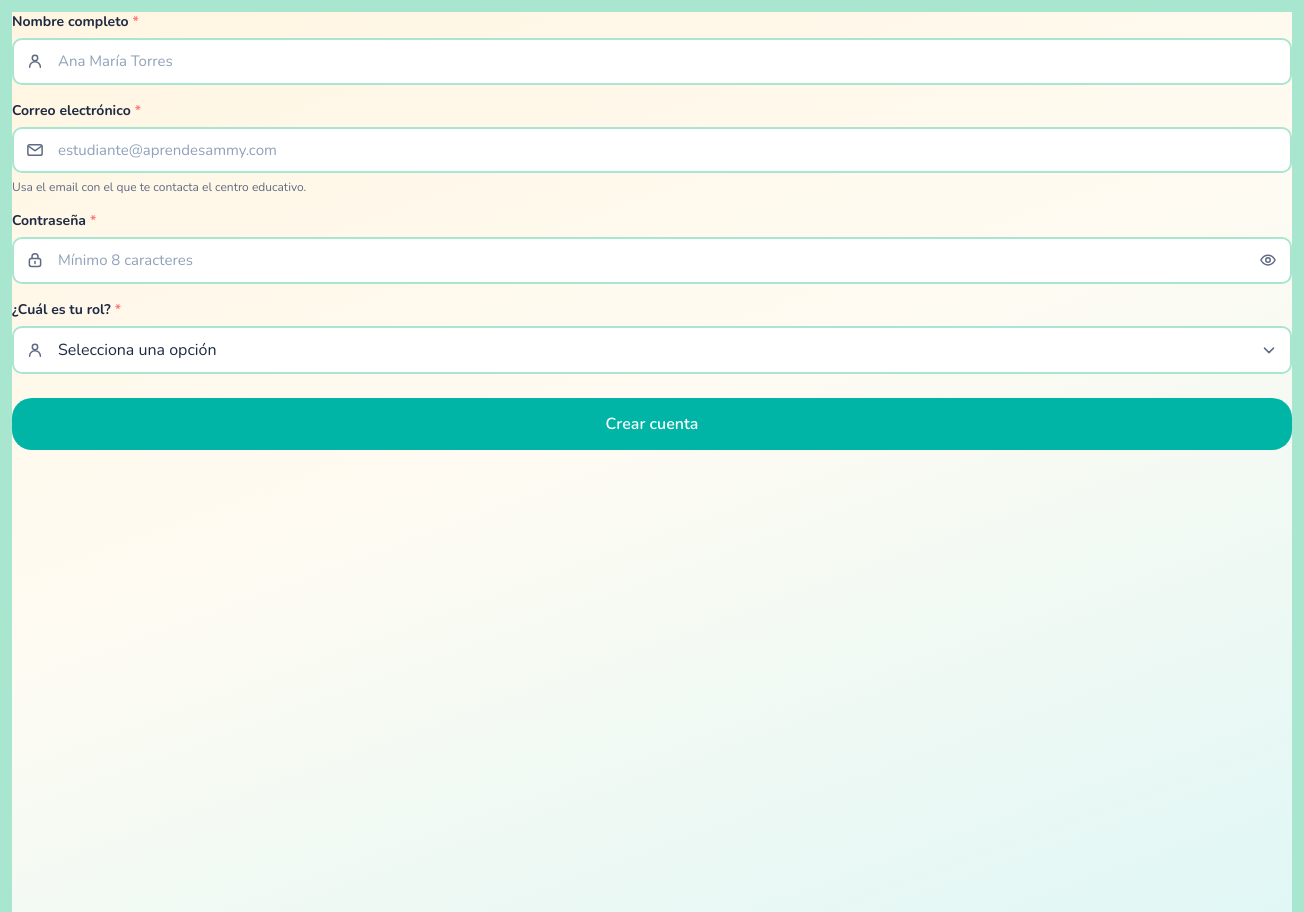
Test: RegisterForm — validación antes de tocar la red › muestra el error de contraseña al salir del campo
In the password field labelled "Contraseña*": (652, 260) [12,237,1292,284], type "123"
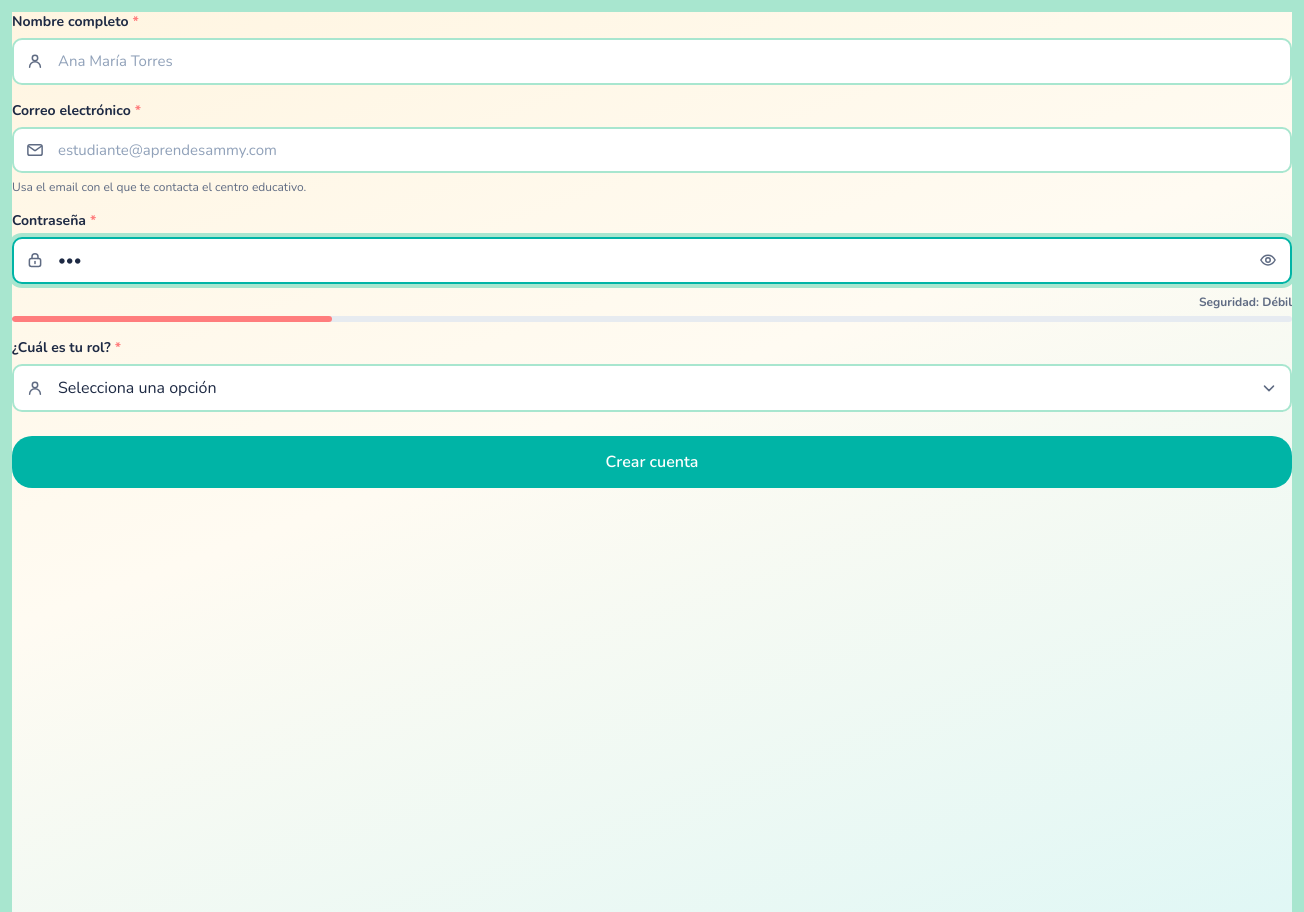
Press Tab
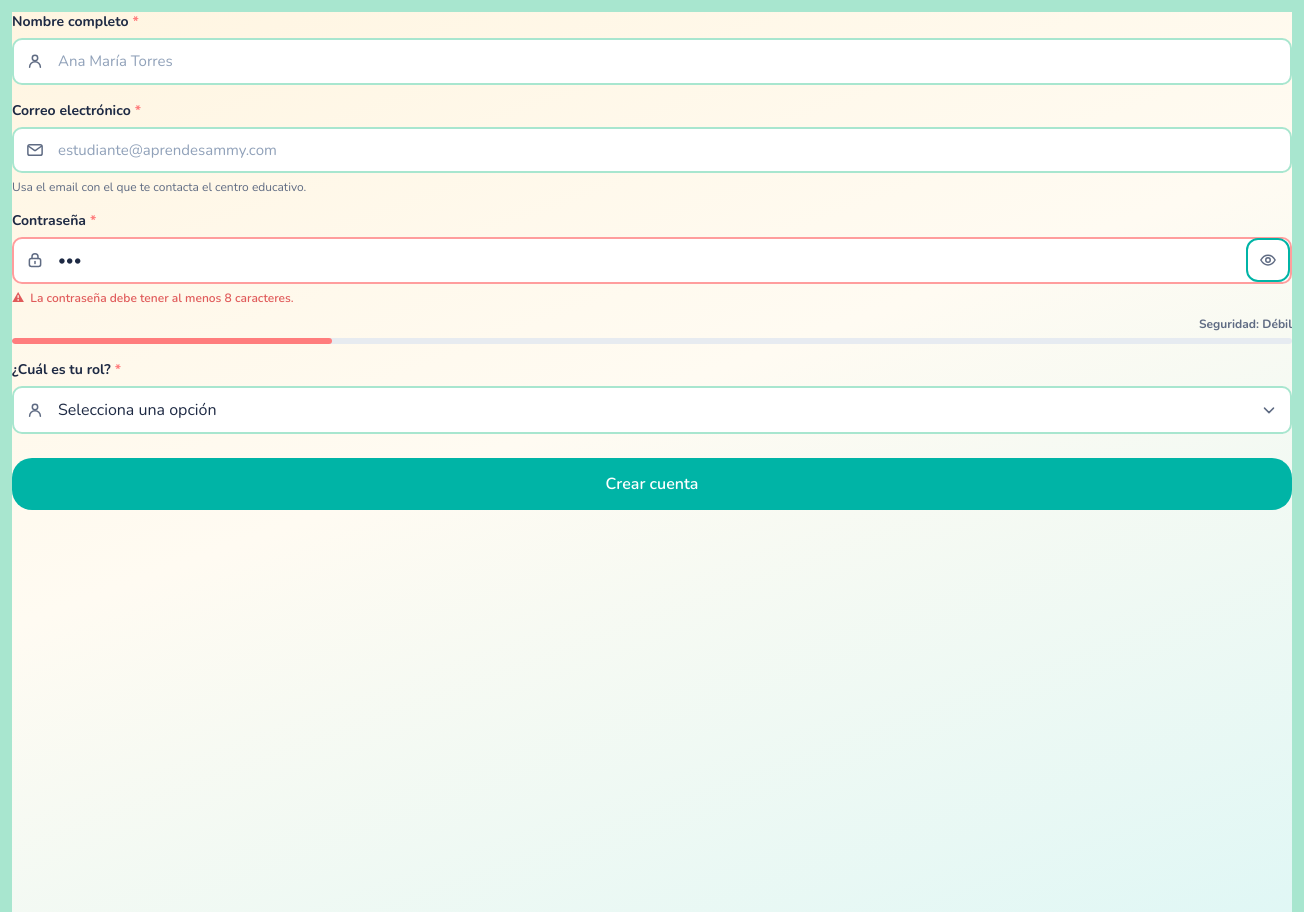
Check: the text "La contraseña debe tener al menos 8 caracteres." is shown, box [30,290,294,306]
